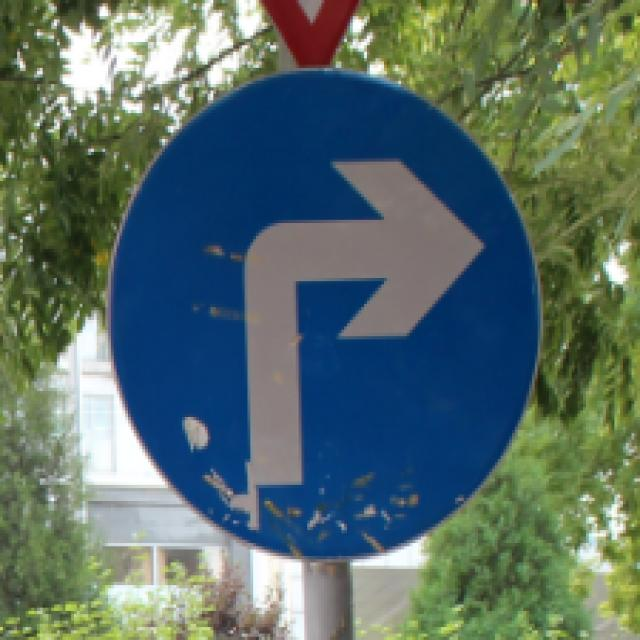Right: (101, 65, 548, 563)
